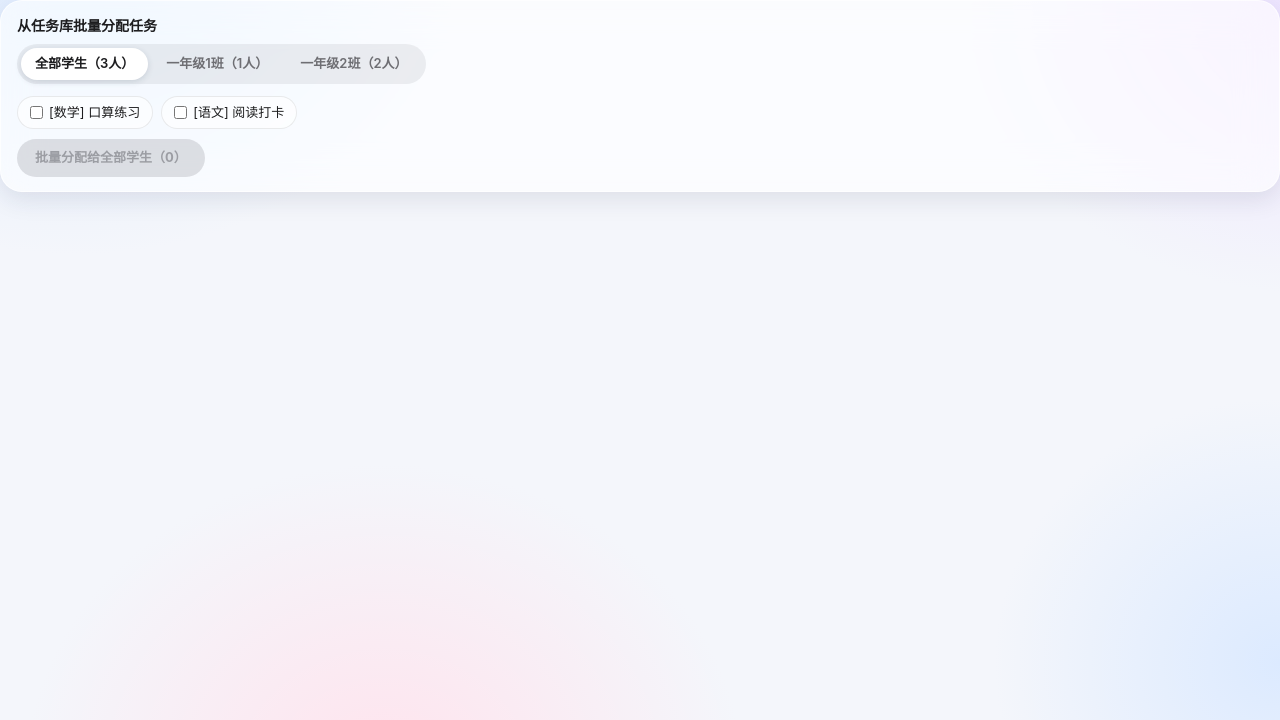
AssignTaskBar › clears selected templates when switching target
Click the text "[数学] 口算练习".
click(85, 112)  # box [17,96,153,129]
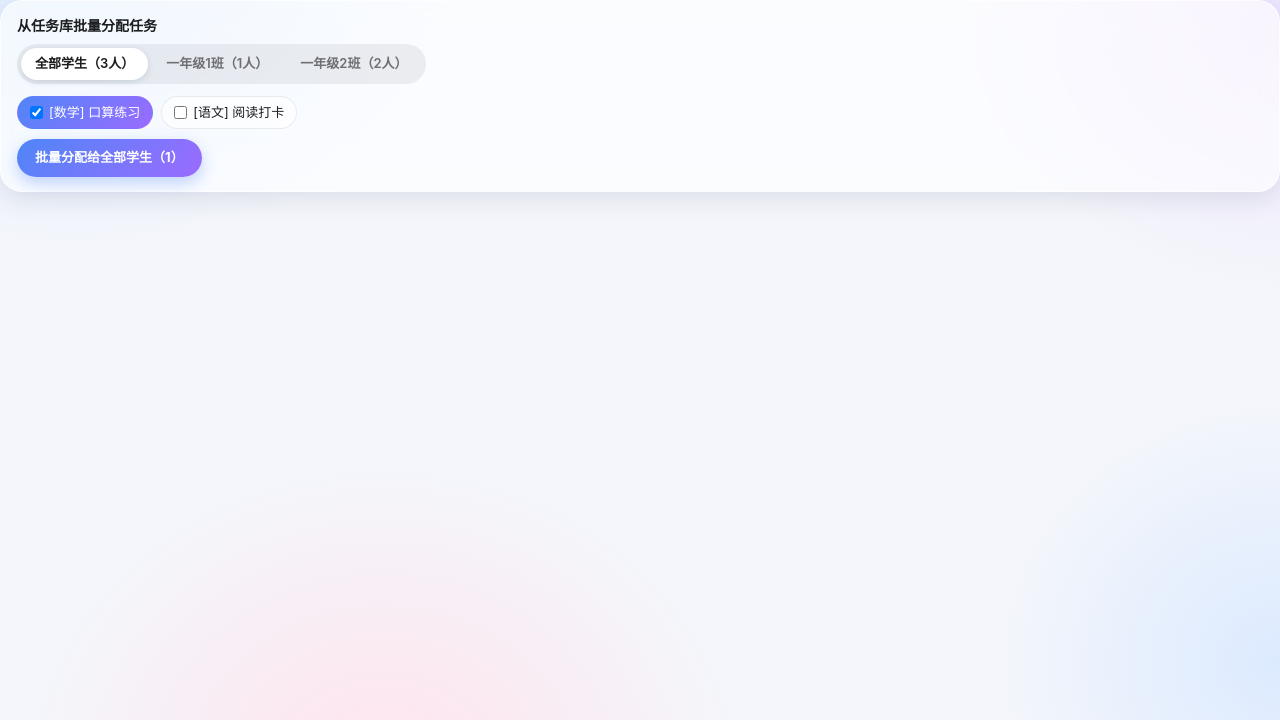
Expected: the button "批量分配给全部学生（1）" is shown, [17,139,202,176]
Click the tab "一年级1班（1人）".
click(217, 64)  # box [152,48,282,80]
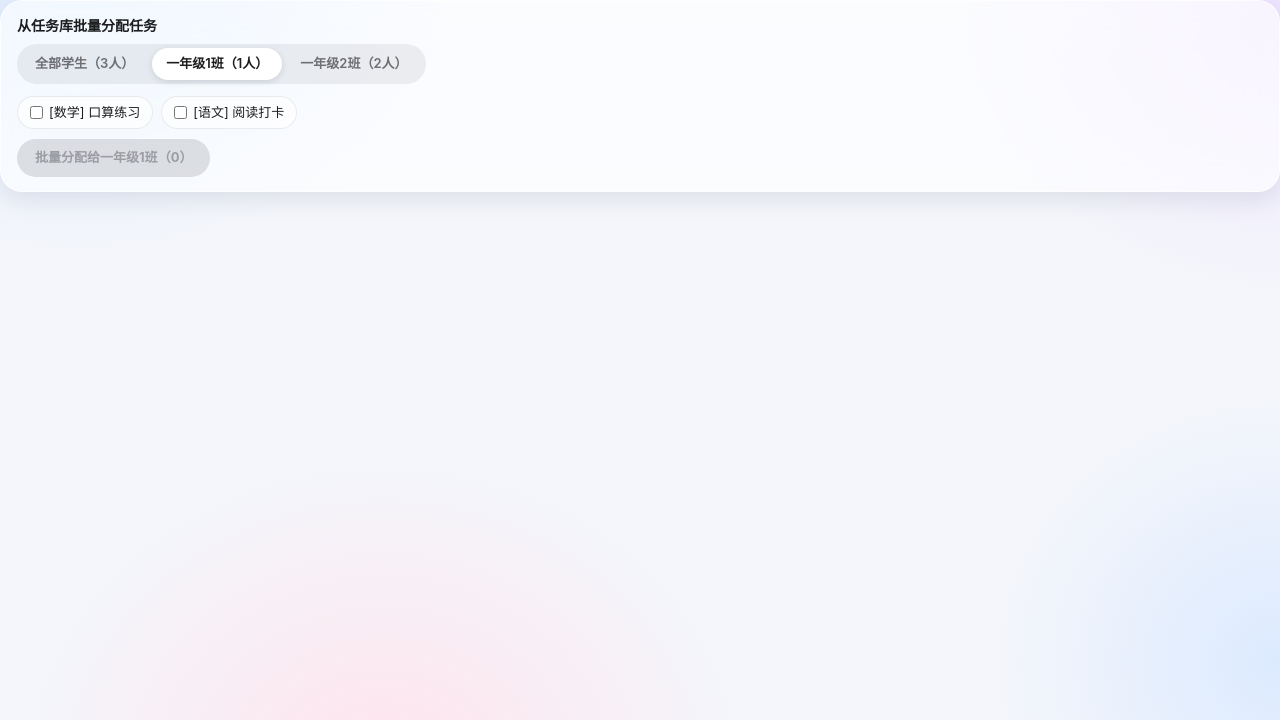
Expected: the button "批量分配给一年级1班（0）" is shown, [17,139,210,176]
